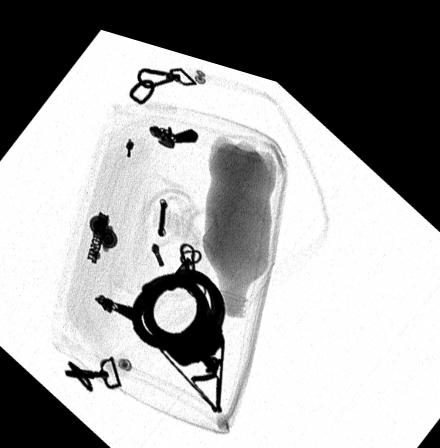HandCuffs: (130, 258, 225, 364)
